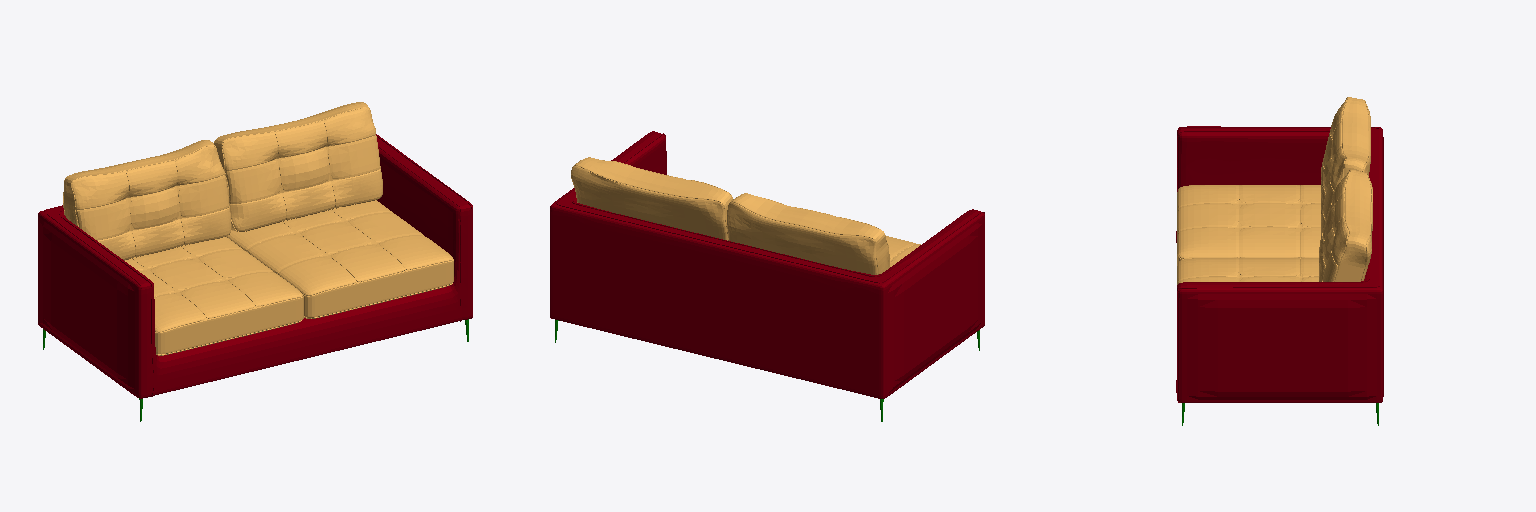
The model's file is bed16.obj.
3 views of the same model, side by side, from view 1: azimuth 30°, elevation 25°; view 2: azimuth 150°, elevation 25°; view 3: azimuth 270°, elevation 25° (orthographic).
Visible parts, largest first — view 1: Object.5, Object.6, Object.8, Object.9, Object.7; view 2: Object.5, Object.9, Object.8, Object.7; view 3: Object.5, Object.7, Object.8, Object.9, Object.6.
Boxes of the visible parts, <box> form: Object.5: <box>38,134,472,398</box>; Object.6: <box>226,200,453,318</box>; Object.8: <box>214,102,382,231</box>; Object.9: <box>63,140,231,260</box>; Object.7: <box>125,237,303,355</box>; Object.5: <box>550,131,984,398</box>; Object.9: <box>727,193,889,274</box>; Object.8: <box>571,157,732,240</box>; Object.7: <box>886,236,920,266</box>; Object.5: <box>1176,126,1383,402</box>; Object.7: <box>1177,185,1320,265</box>; Object.8: <box>1319,170,1372,281</box>; Object.9: <box>1321,97,1370,234</box>; Object.6: <box>1177,258,1318,284</box>.
Size of the model in its own units: 63.94 by 32.28 by 33.61.